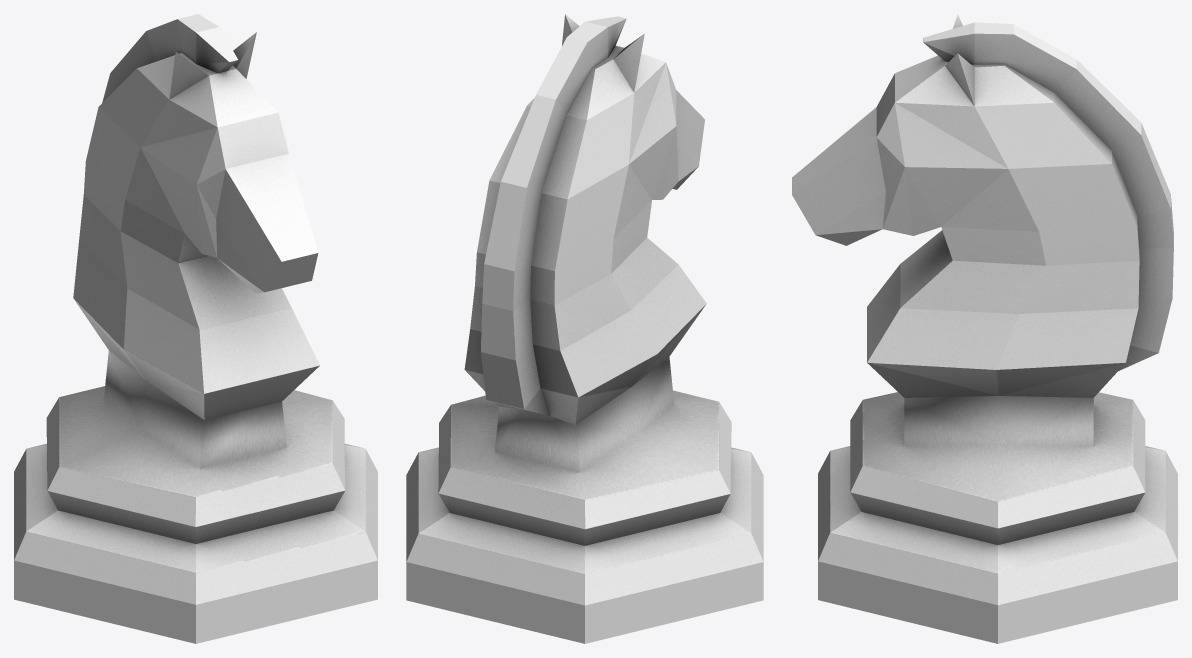
Rendered from knight.fbx.
3 views of the same model, side by side, from view 1: azimuth 30°, elevation 25°; view 2: azimuth 150°, elevation 25°; view 3: azimuth 270°, elevation 25° (orthographic).
Visible parts, largest first — view 1: Knight; view 2: Knight; view 3: Knight.
Part boxes in pixels (x1,y1,x2,y2): Knight: (14,14,377,643); Knight: (406,14,763,643); Knight: (792,14,1177,643).
Bounding box in the file's own units: 89.57 × 126 × 83.16.
